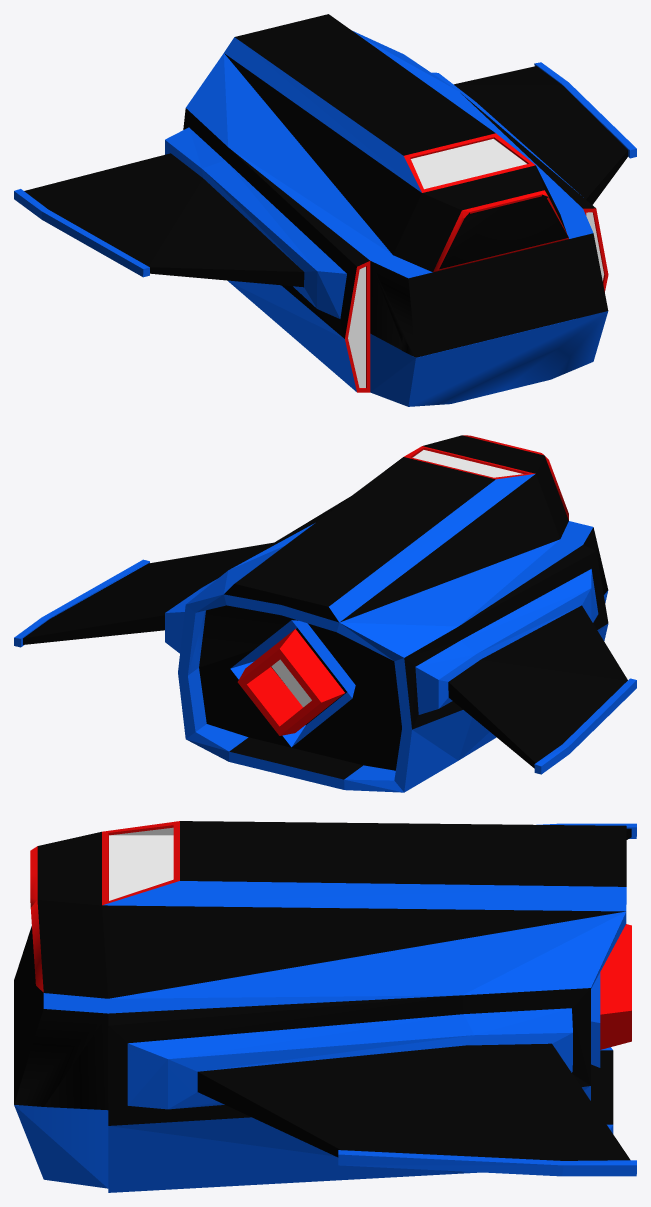
The model's file is drone.fbx.
3 renders of one model, top to bottom at view 1: azimuth 30°, elevation 25°; view 2: azimuth 150°, elevation 25°; view 3: azimuth 270°, elevation 25°, orthographic. The views are drawn at different scales.
Parts seen in each view (by area): view 1: Box001; view 2: Box001; view 3: Box001.
Part boxes in pixels (x1,y1,x2,y2): Box001: (14, 14, 636, 406); Box001: (14, 435, 636, 792); Box001: (14, 821, 636, 1192).
Size of the model in its own units: 86.48 by 32.85 by 66.56.
